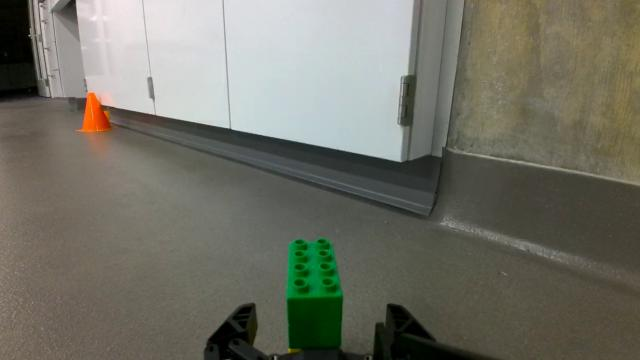lego: (284, 225, 345, 360)
